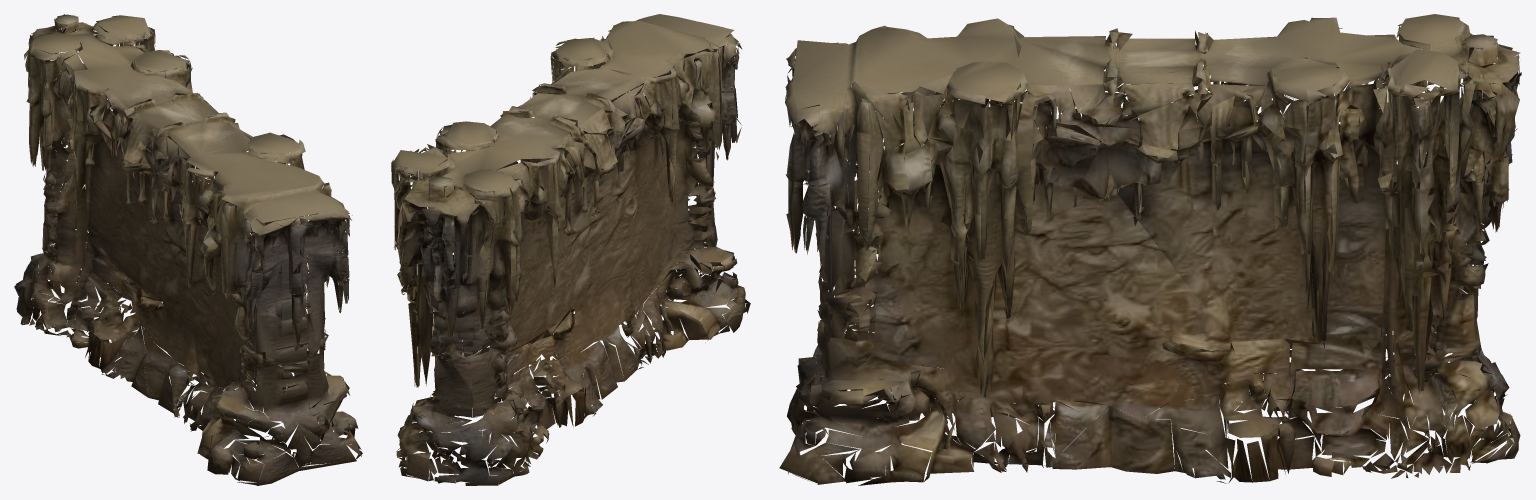
File: cav_flowstone_drapery_wall_LOD1.glb
The picture shows the model from 3 angles, left to right: view 1: azimuth 30°, elevation 25°; view 2: azimuth 150°, elevation 25°; view 3: azimuth 270°, elevation 25°; orthographic projection. The views are drawn at different scales.
Parts seen in each view (by area): view 1: tripo_node_7b1ac8a0-77a8-4fd8-9107-2be55535e6d0; view 2: tripo_node_7b1ac8a0-77a8-4fd8-9107-2be55535e6d0; view 3: tripo_node_7b1ac8a0-77a8-4fd8-9107-2be55535e6d0.
Boxes of the visible parts, x1,y1,x2,y2 form: tripo_node_7b1ac8a0-77a8-4fd8-9107-2be55535e6d0: (14, 14, 362, 485); tripo_node_7b1ac8a0-77a8-4fd8-9107-2be55535e6d0: (391, 14, 750, 485); tripo_node_7b1ac8a0-77a8-4fd8-9107-2be55535e6d0: (779, 14, 1521, 485).
Size of the model in its own units: 0.3262 by 0.6104 by 1.01.
1 material, 1 textured.
